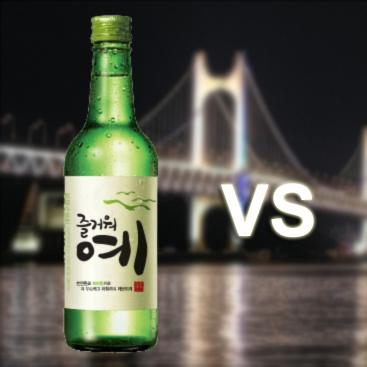soju: (61, 13, 163, 351)
